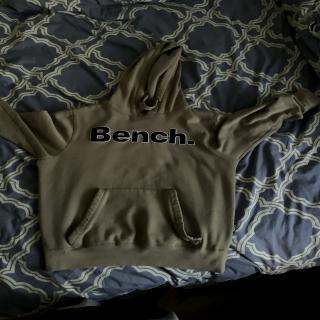Yellow Hoodie: (0, 38, 320, 276)
